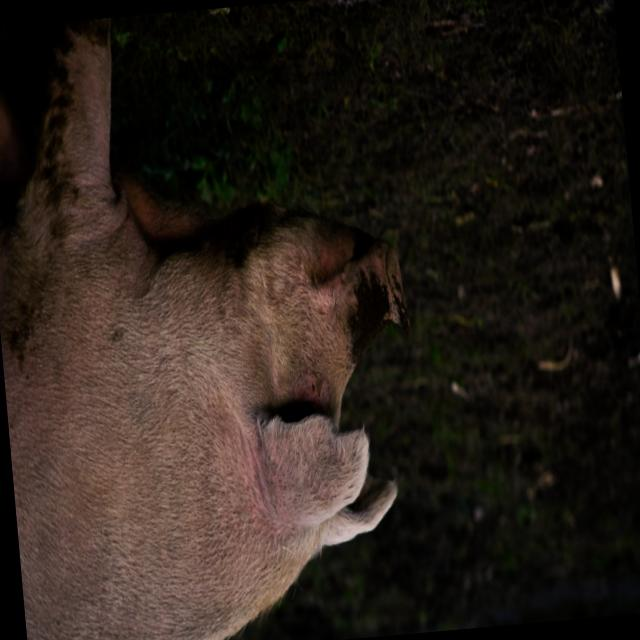pig: (0, 17, 406, 640)
